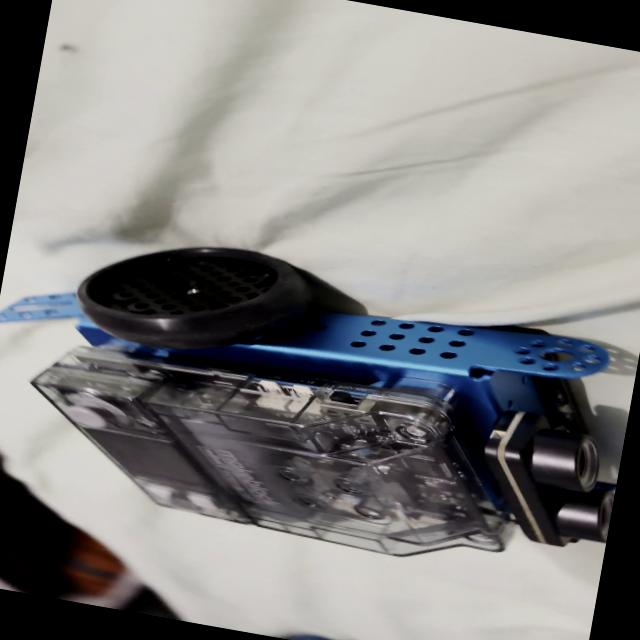mbot-detection: (0, 205, 640, 616)
